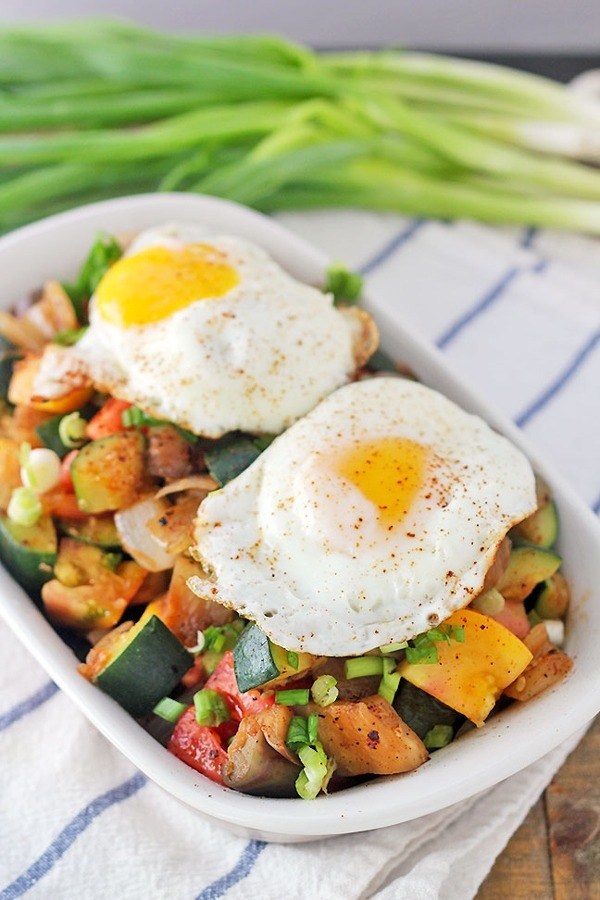fried egg: (109, 228, 316, 424), (269, 413, 477, 592)
